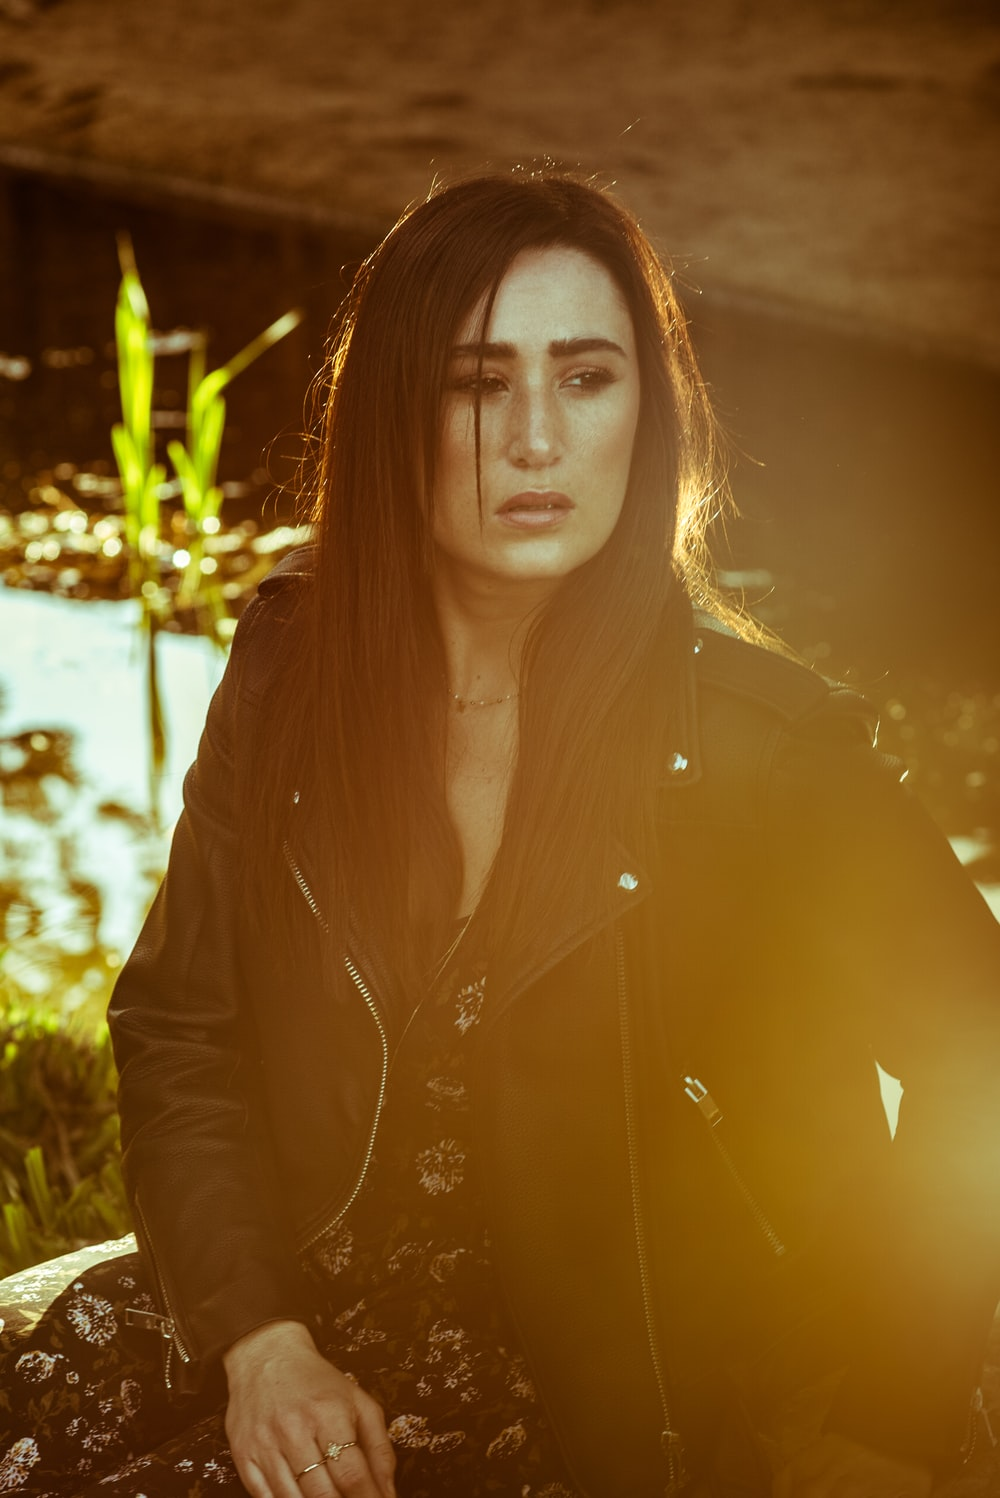face: (346, 178, 694, 601)
